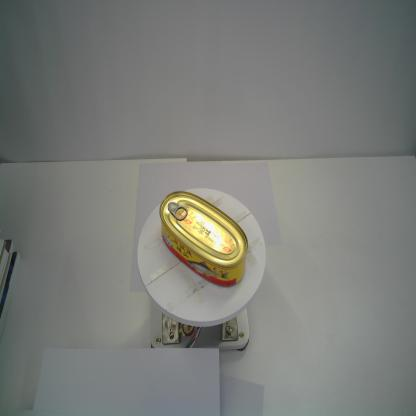Canned Food: (158, 190, 249, 288)
